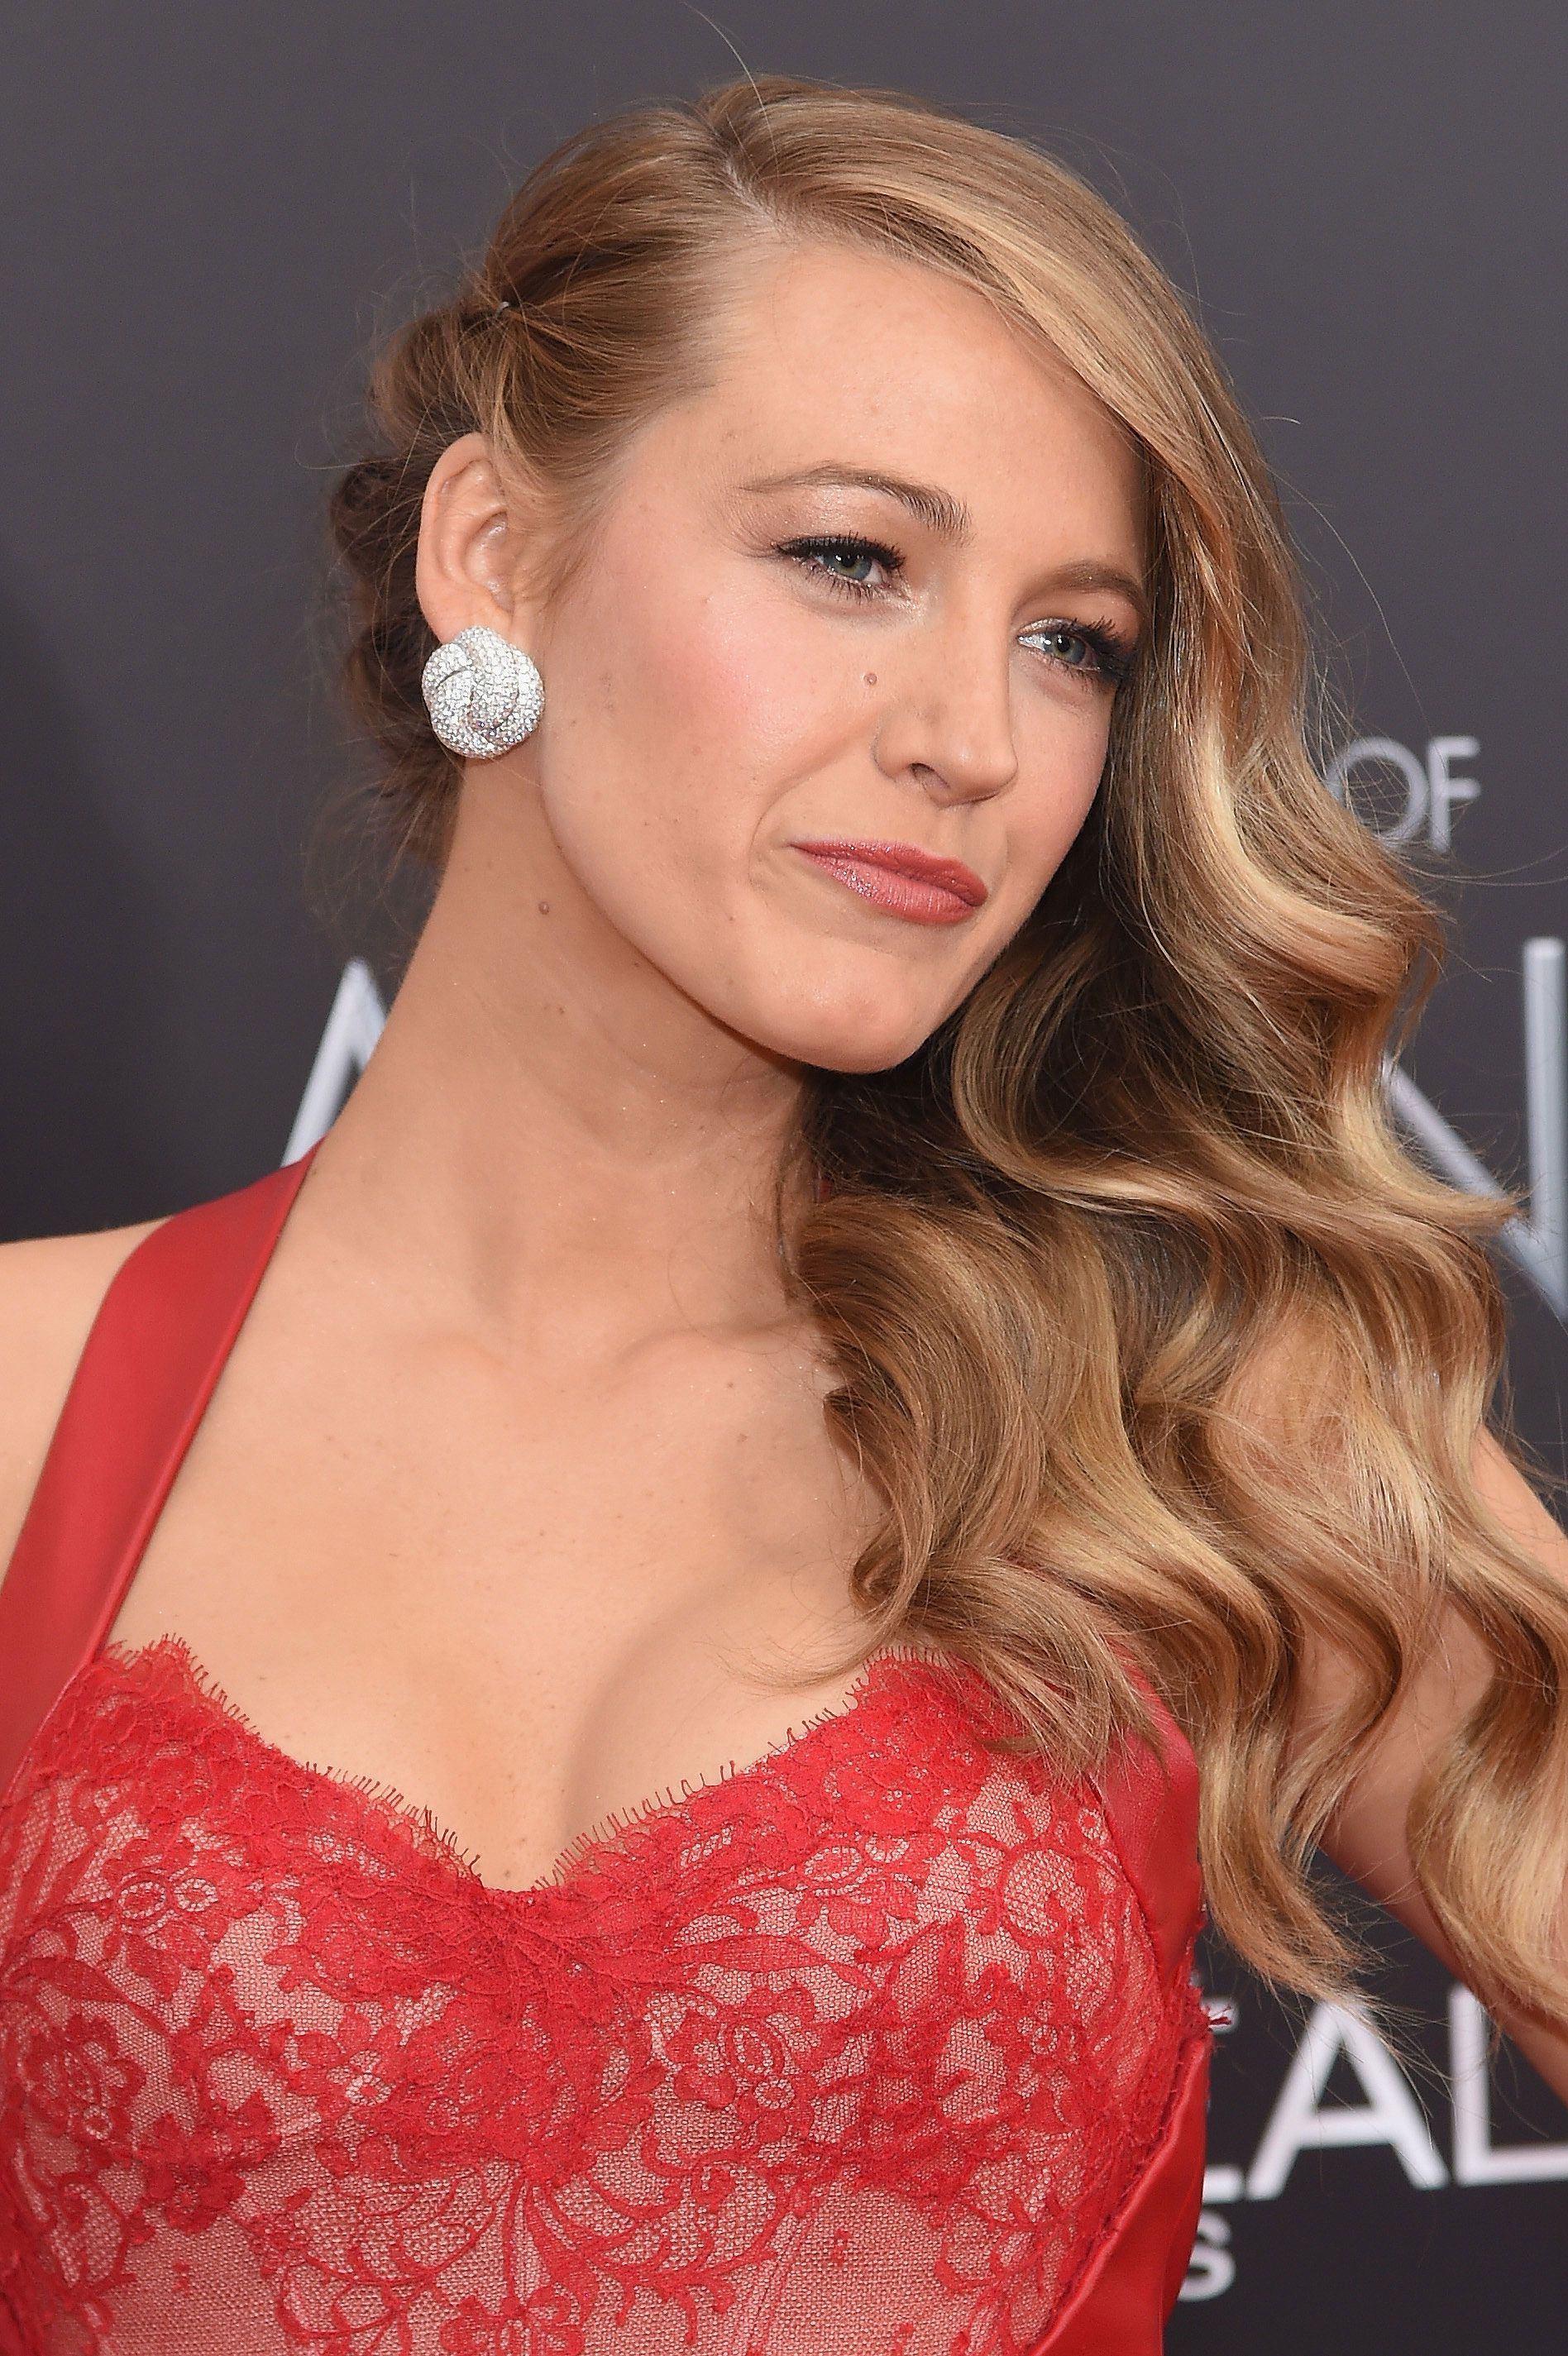mole: (513, 896, 569, 939), (838, 659, 891, 700)
